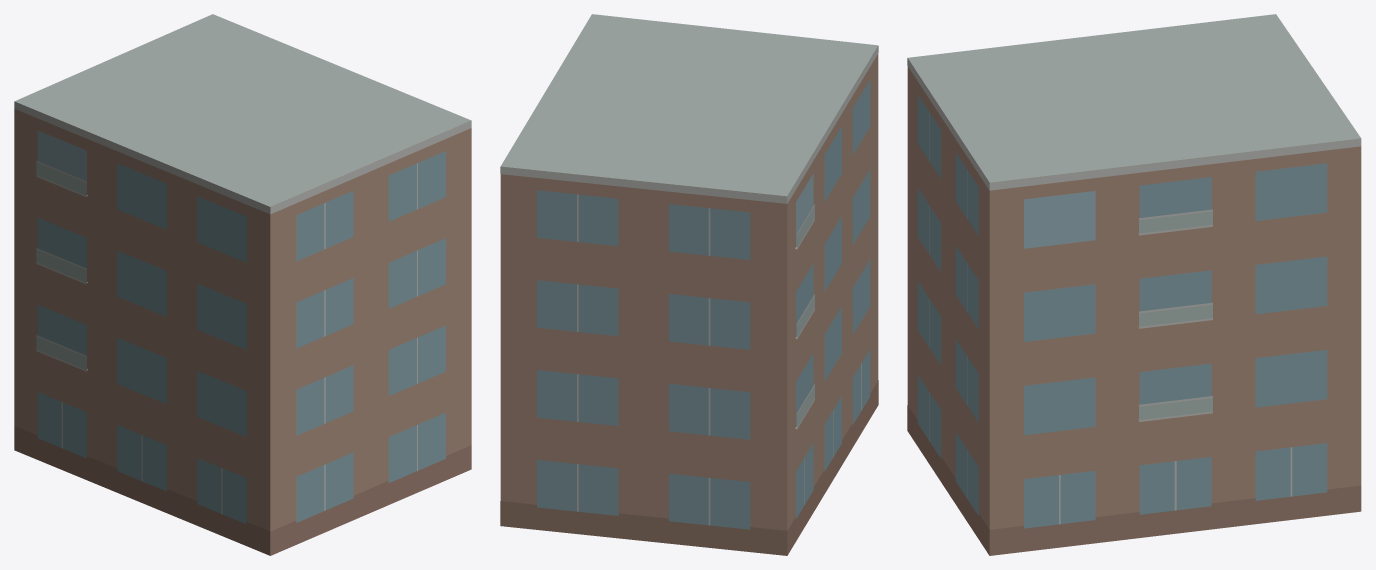
File: survey-upis-32935078.glb
3 renders of one model, left to right at view 1: azimuth 30°, elevation 25°; view 2: azimuth 150°, elevation 25°; view 3: azimuth 270°, elevation 25°, orthographic. The views are drawn at different scales.
Parts seen in each view (by area): view 1: survey-upis-32935078.tmp; view 2: survey-upis-32935078.tmp; view 3: survey-upis-32935078.tmp.
Part boxes in pixels (x1,y1,x2,y2): survey-upis-32935078.tmp: [14, 14, 471, 555]; survey-upis-32935078.tmp: [500, 14, 878, 555]; survey-upis-32935078.tmp: [907, 14, 1361, 555].
Size of the model in its own units: 11.22 by 11.55 by 12.74.
